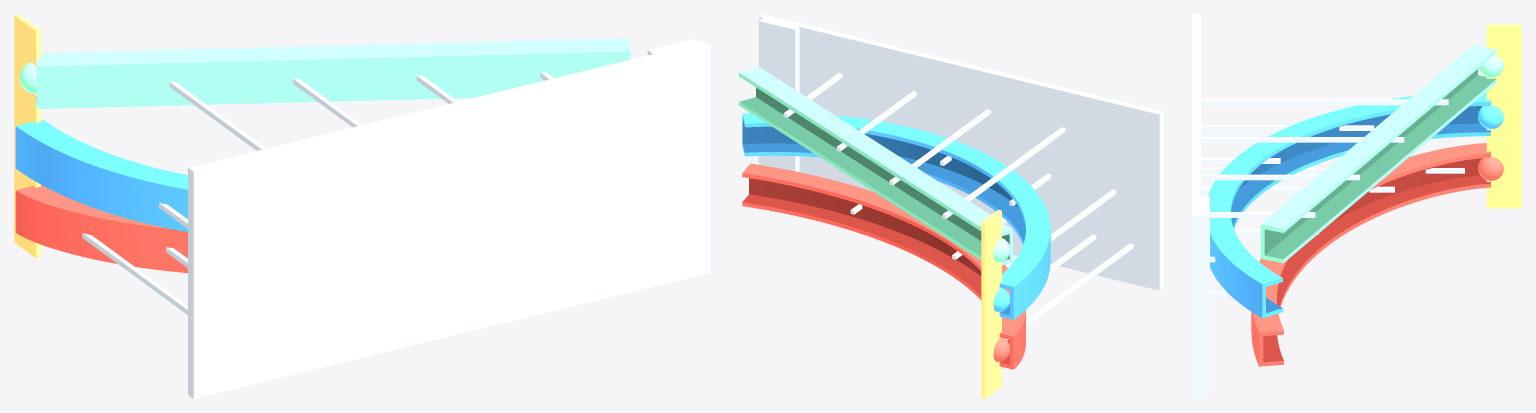
File: brachistochrone-race.glb
3 views of the same model, side by side, from view 1: azimuth 30°, elevation 25°; view 2: azimuth 150°, elevation 25°; view 3: azimuth 270°, elevation 25° (orthographic). The views are drawn at different scales.
Visible parts, largest first — view 1: base, line, arc, cycloid, start-gate, cycloid-support-25, line-support-25, line-support-50; view 2: base, line, arc, cycloid, start-gate, catch-tray, cycloid-support-25, line-support-25, line-support-50, arc-support-25, line-support-75; view 3: line, arc, cycloid, start-gate, base, catch-tray, line-support-25, line-support-50, line-support-75, arc-support-25, arc-marble, cycloid-marble (+4 smaller).
Part boxes in pixels (left/top/right/bottom): base: left=188, top=41, right=710, bottom=398; line: left=36, top=38, right=630, bottom=108; arc: left=15, top=119, right=187, bottom=231; cycloid: left=15, top=185, right=187, bottom=273; start-gate: left=14, top=14, right=40, bottom=258; cycloid-support-25: left=82, top=233, right=187, bottom=314; line-support-25: left=169, top=82, right=266, bottom=150; line-support-50: left=293, top=78, right=361, bottom=127; base: left=759, top=14, right=1163, bottom=290; line: left=739, top=67, right=1012, bottom=265; arc: left=742, top=113, right=1050, bottom=319; cycloid: left=742, top=163, right=1025, bottom=369; start-gate: left=981, top=210, right=1001, bottom=398; catch-tray: left=758, top=18, right=799, bottom=172; cycloid-support-25: left=1004, top=243, right=1133, bottom=340; line-support-25: left=942, top=127, right=1065, bottom=219; line-support-50: left=889, top=109, right=990, bottom=185; arc-support-25: left=1050, top=189, right=1116, bottom=241; line-support-75: left=836, top=91, right=916, bottom=151; line: left=1260, top=44, right=1496, bottom=263; arc: left=1208, top=92, right=1490, bottom=318; cycloid: left=1251, top=143, right=1490, bottom=366; start-gate: left=1486, top=24, right=1521, bottom=208; base: left=1192, top=14, right=1200, bottom=398; catch-tray: left=1201, top=196, right=1209, bottom=396; line-support-25: left=1201, top=99, right=1448, bottom=105; line-support-50: left=1201, top=137, right=1404, bottom=142; line-support-75: left=1201, top=174, right=1359, bottom=180; arc-support-25: left=1201, top=125, right=1374, bottom=130; arc-marble: left=1478, top=105, right=1503, bottom=129; cycloid-marble: left=1478, top=157, right=1503, bottom=180.
Bounding box in the file's own units: 219 × 92 × 150.
